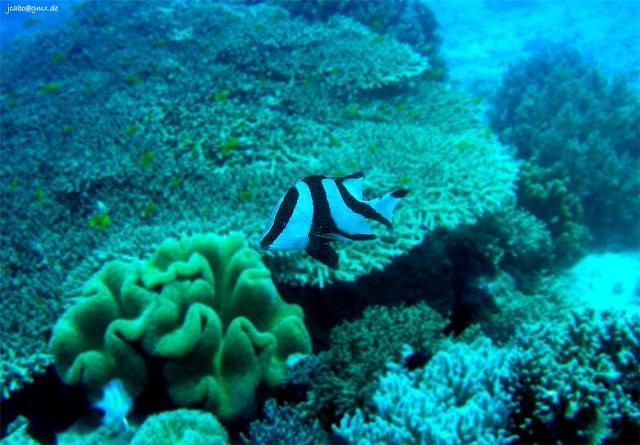Mulut: (244, 219, 282, 268)
Sirip Ekor: (375, 179, 423, 255)
Sirip Perut: (306, 242, 346, 285)
Sirip Punggung: (282, 162, 372, 208)
